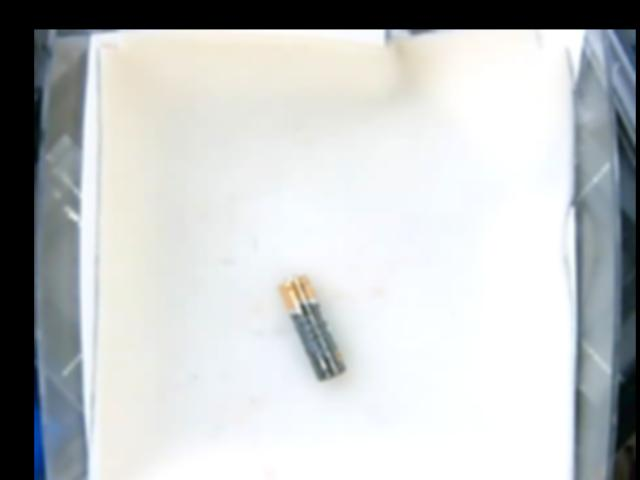Battery: (280, 275, 344, 380)
